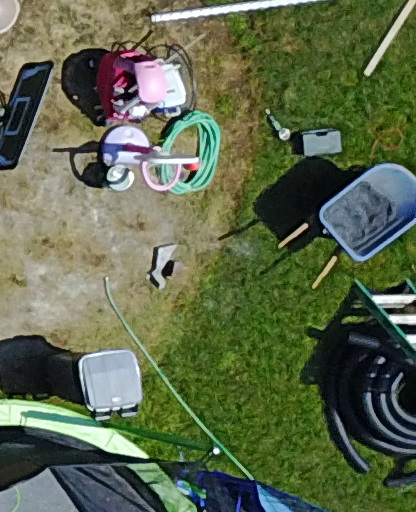container: (292, 117, 350, 165)
piping: (323, 321, 416, 489)
toy: (92, 124, 208, 214), (94, 31, 191, 129)
trash bin: (63, 334, 159, 429)
